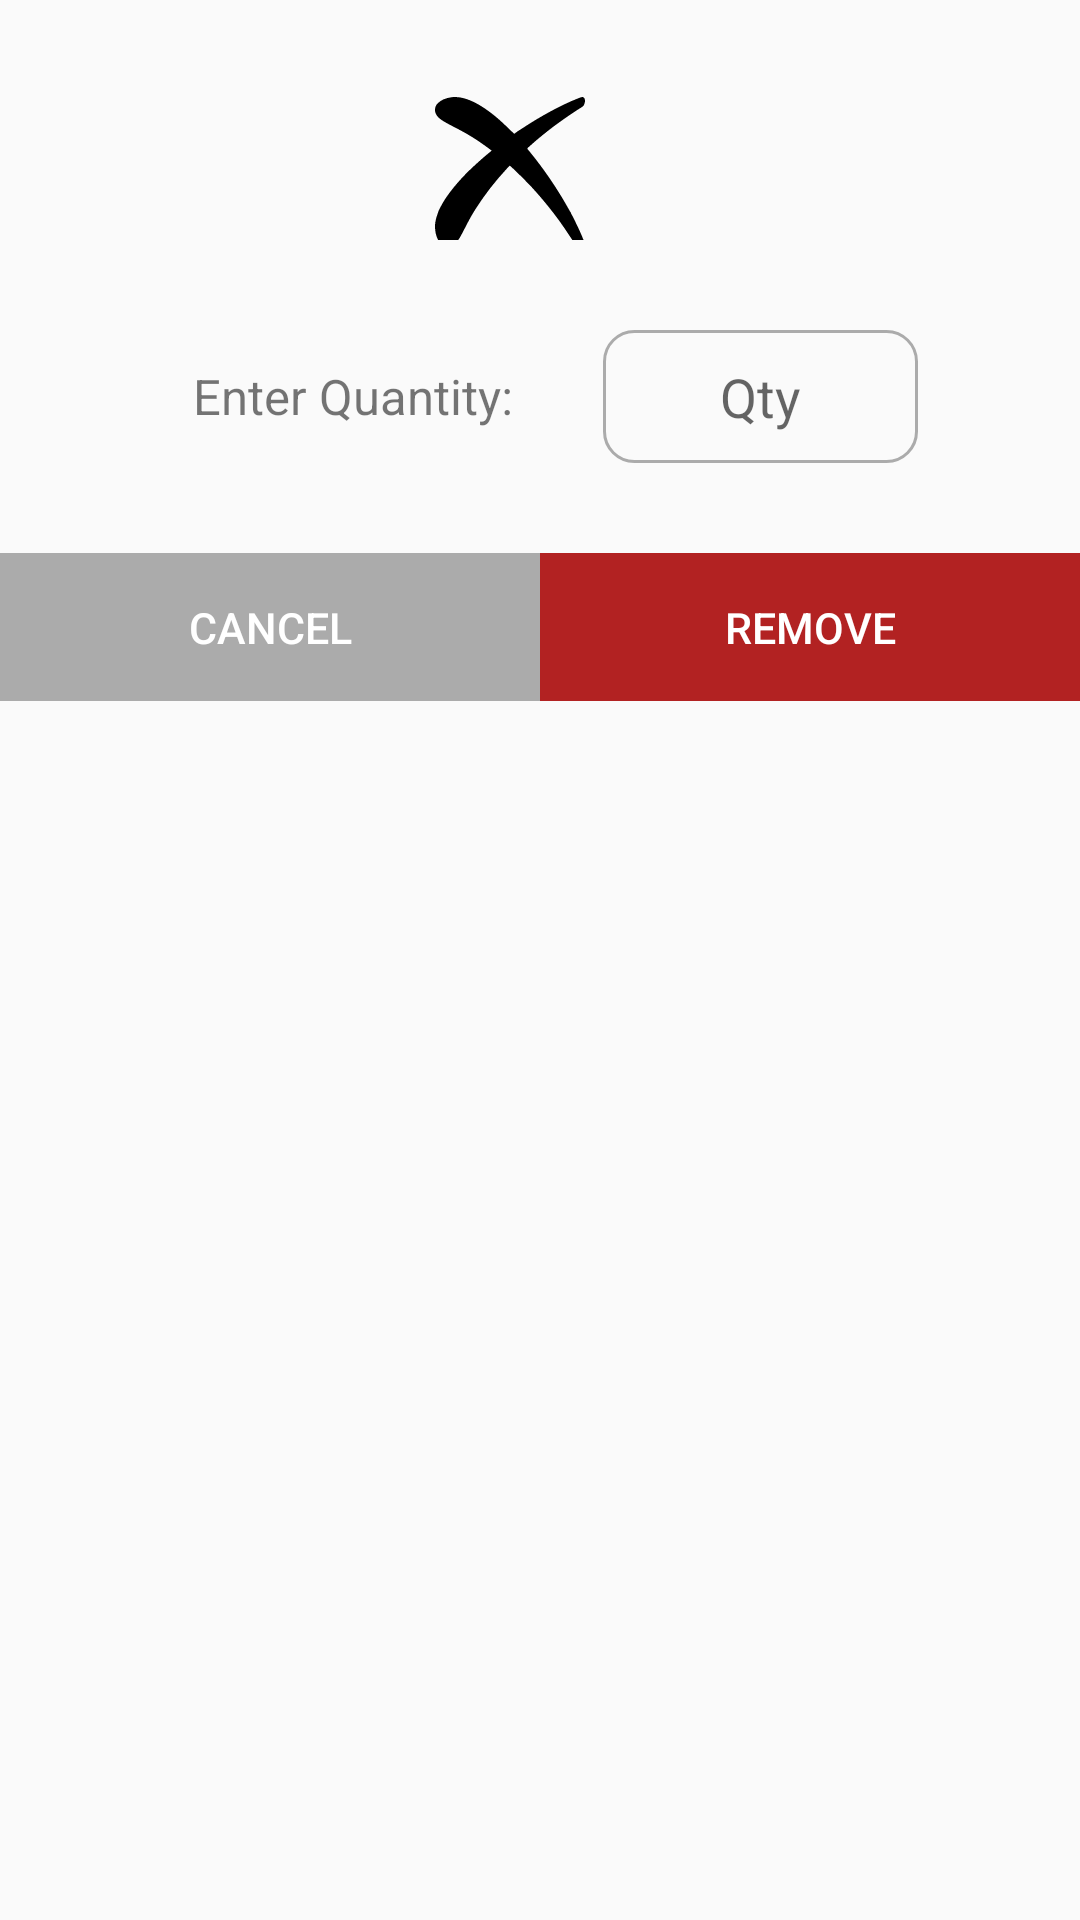

Icon click points for this 1080px×1920px phone screenshot, format (x,y):
cancel: (510,168)
